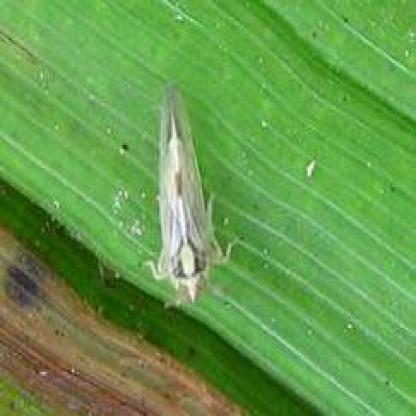brown-planthopper: (144, 96, 220, 302)
